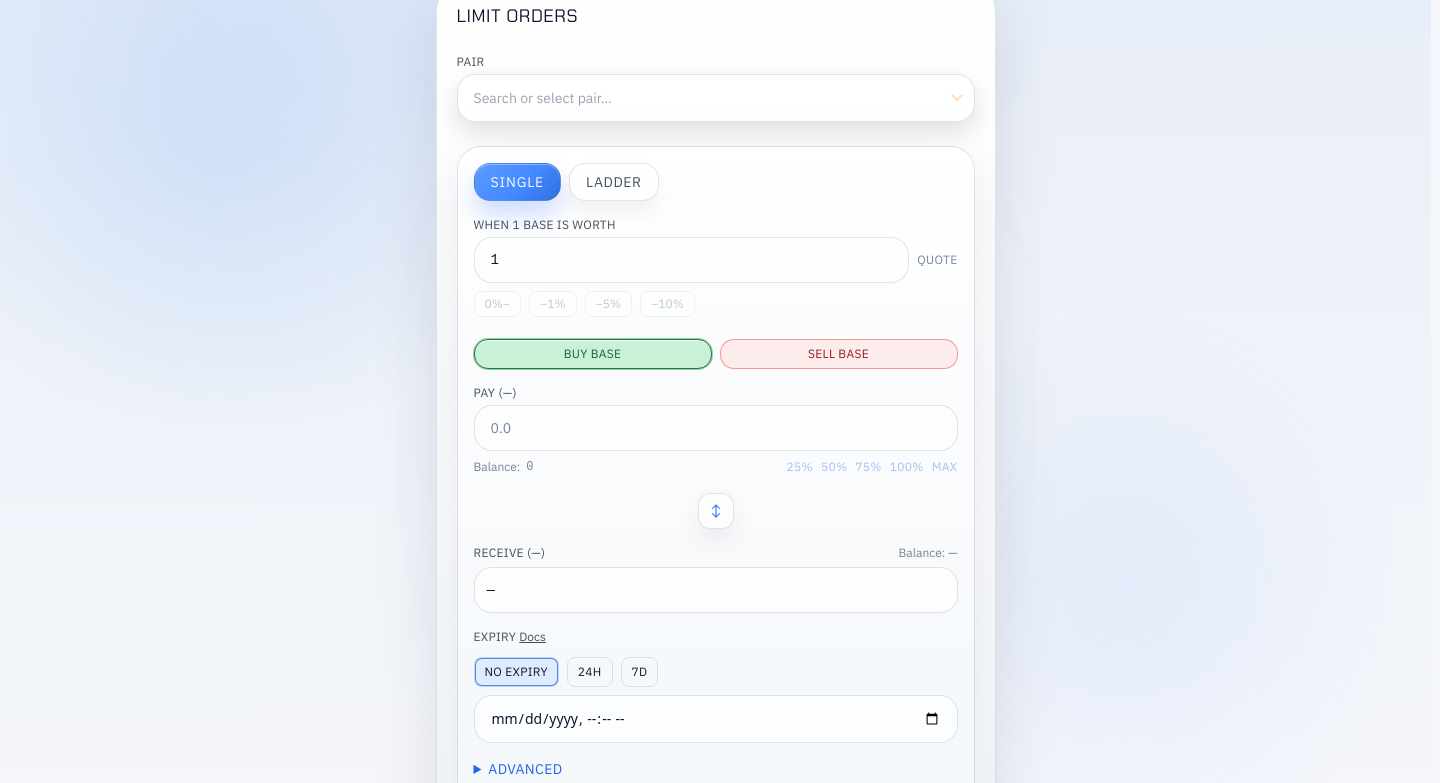
it: LimitOrdersPage › shows freeze banner and disables book Edit when pair is code-id frozen (GitLab #585)
Click the dropdown named "Trading pair": (716, 98) [456, 74, 974, 122]
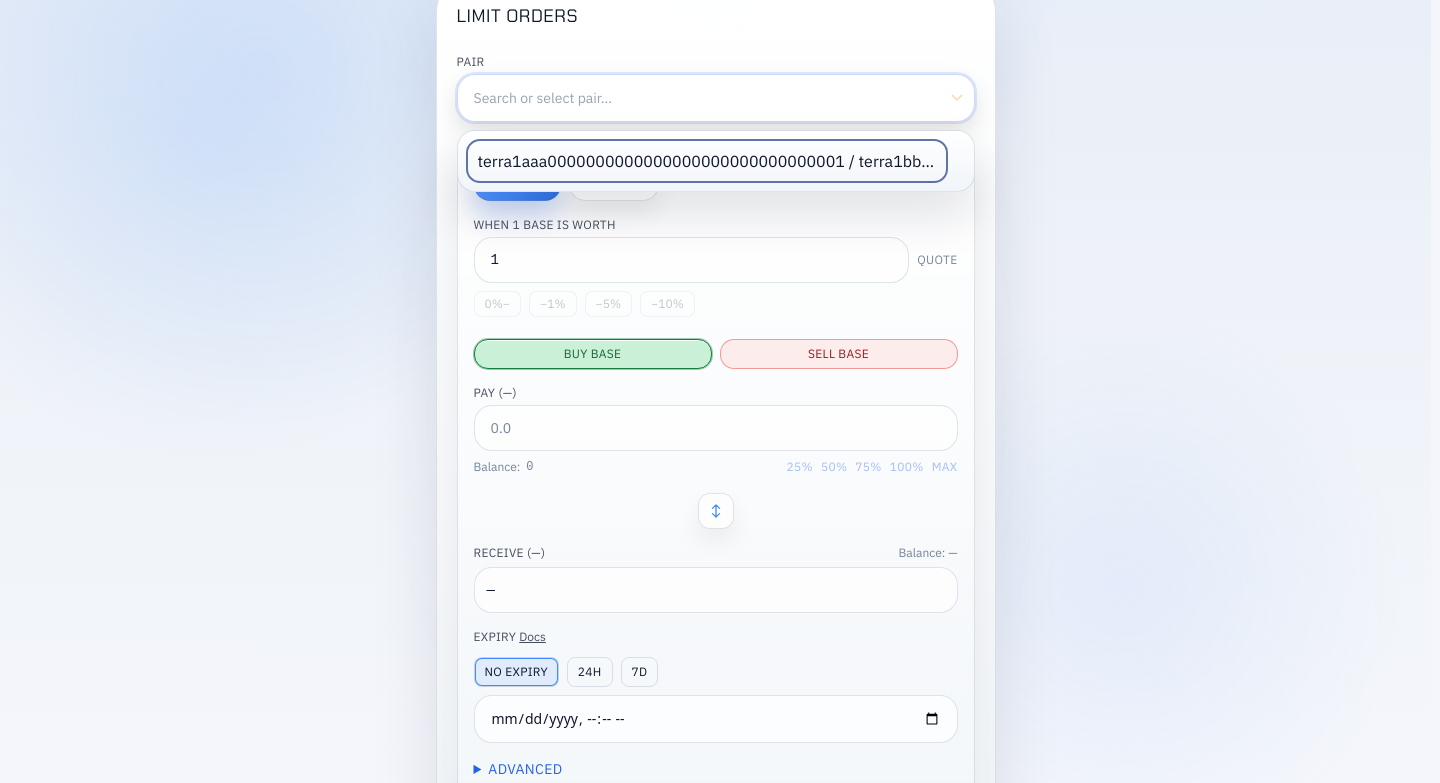
Click the option: (706, 161) [466, 139, 948, 183]
(page scrolled)
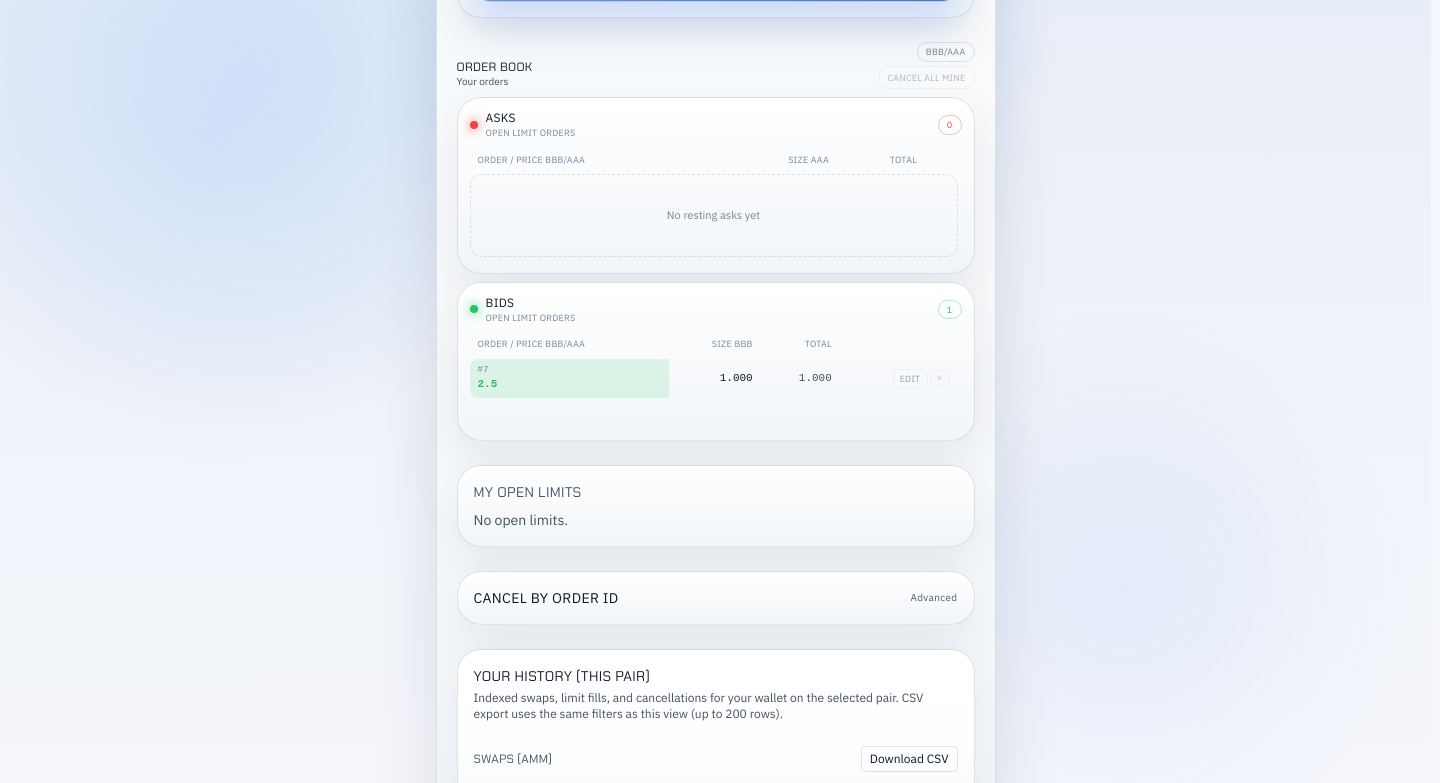
Now the button with test id "trade-book-edit-bid-7" is disabled, box [893, 369, 928, 388]
